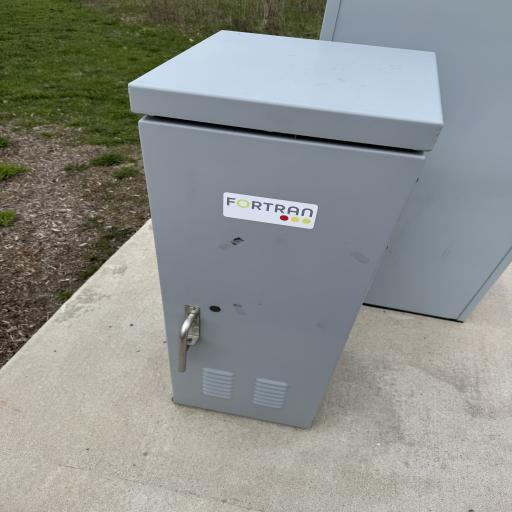Electrical Box: (126, 28, 448, 430)
